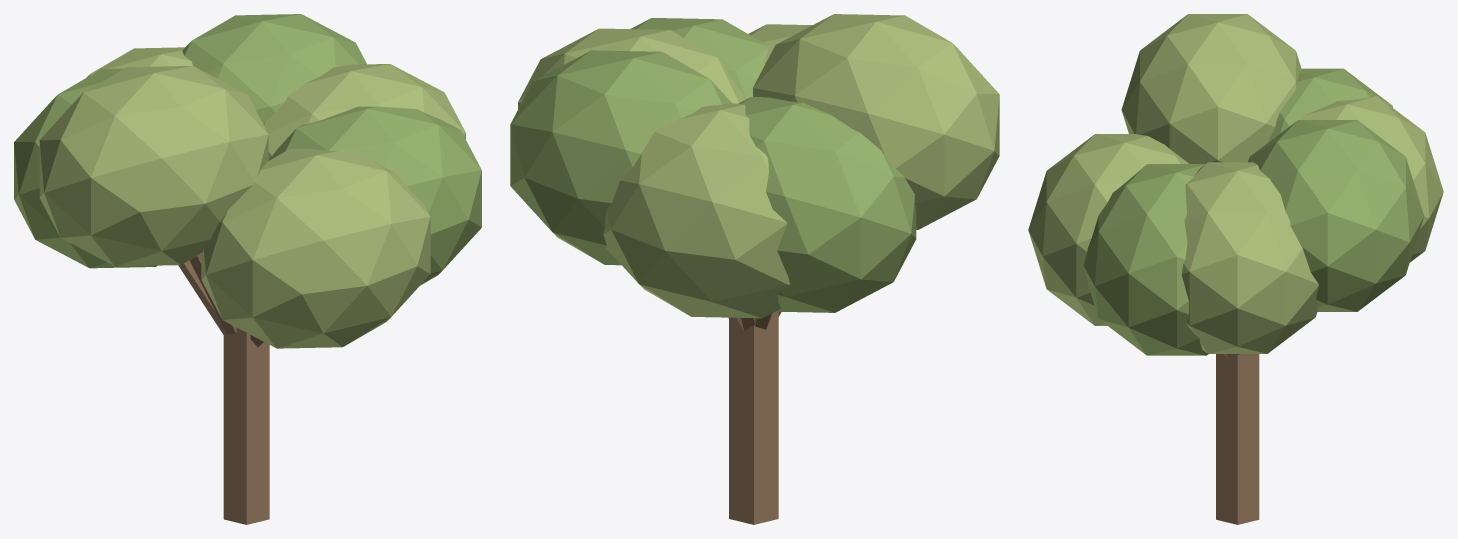
The model's file is tree_jackfruit.glb.
3 renders of one model, left to right at view 1: azimuth 30°, elevation 25°; view 2: azimuth 150°, elevation 25°; view 3: azimuth 270°, elevation 25°, orthographic. The views are drawn at different scales.
Visible parts, largest first — view 1: part_10, part_6, part_12, part_8, part_0, part_2, part_4, part_14, part_3; view 2: part_10, part_14, part_4, part_8, part_0, part_2, part_12, part_6; view 3: part_8, part_2, part_10, part_12, part_6, part_0, part_14, part_4.
Part boxes in pixels (<box>): part_10: <box>39,66,268,266</box>; part_6: <box>201,149,430,348</box>; part_12: <box>268,106,481,285</box>; part_8: <box>182,14,366,123</box>; part_0: <box>223,328,269,524</box>; part_2: <box>263,64,465,158</box>; part_4: <box>14,68,157,268</box>; part_14: <box>86,47,192,77</box>; part_3: <box>178,260,223,334</box>; part_10: <box>753,14,999,229</box>; part_14: <box>603,103,789,318</box>; part_4: <box>738,97,916,312</box>; part_8: <box>510,50,731,265</box>; part_0: <box>729,311,778,524</box>; part_2: <box>518,28,745,109</box>; part_12: <box>631,18,768,99</box>; part_6: <box>748,24,812,64</box>; part_8: <box>1248,120,1423,311</box>; part_2: <box>1181,162,1318,353</box>; part_10: <box>1121,14,1301,163</box>; part_12: <box>1083,164,1208,355</box>; part_6: <box>1028,134,1188,325</box>; part_0: <box>1216,354,1259,524</box>; part_14: <box>1300,95,1443,262</box>; part_4: <box>1268,68,1392,142</box>.
Size of the model in its own units: 3.47 by 3.68 by 3.11.
